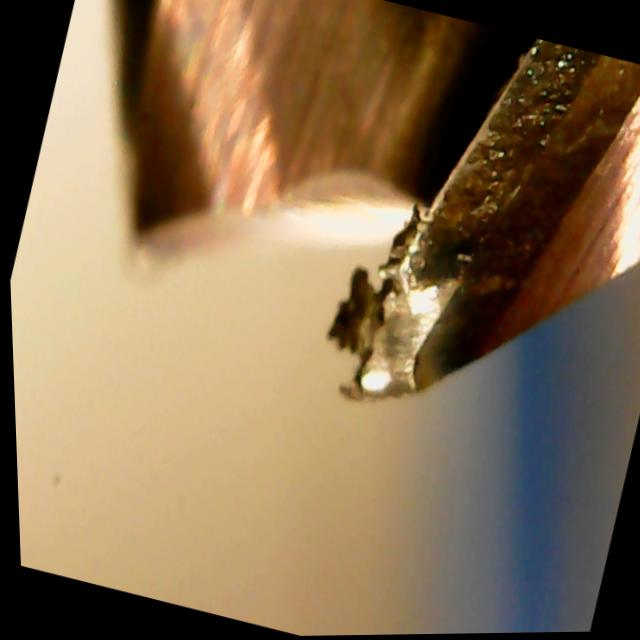Tool-wear-class-2: (302, 40, 570, 452)
